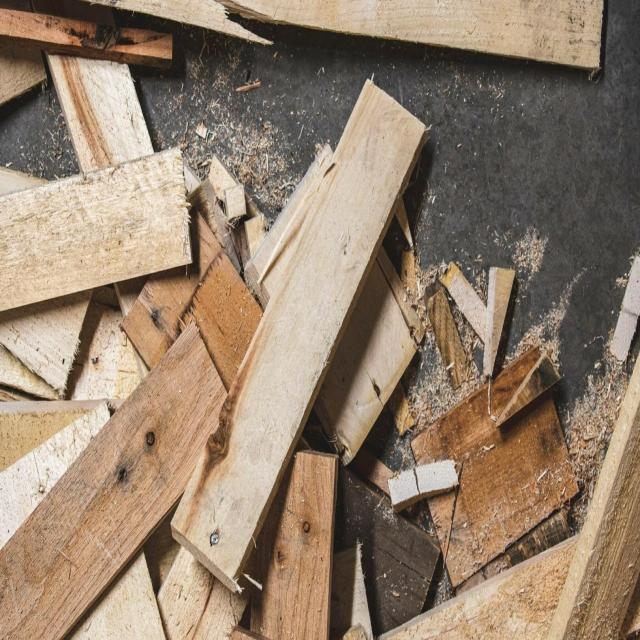green waste: (0, 95, 640, 618), (11, 2, 611, 91)
